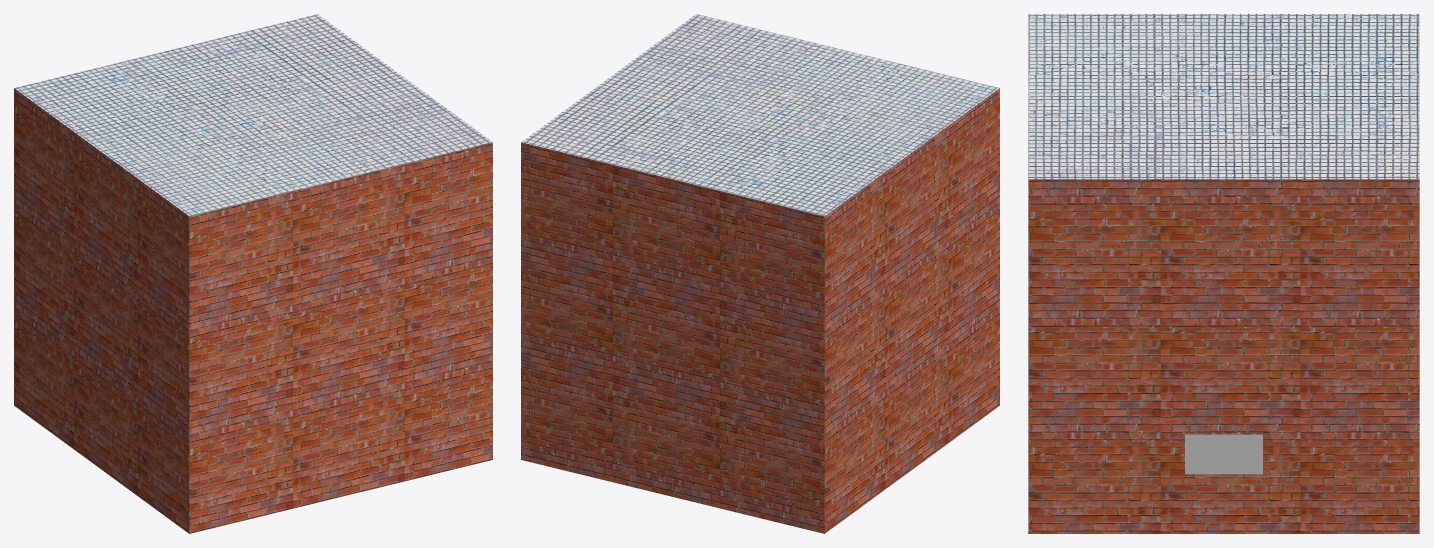
Rendered from region-test.glb.
3 views of the same model, side by side, from view 1: azimuth 30°, elevation 25°; view 2: azimuth 150°, elevation 25°; view 3: azimuth 270°, elevation 25° (orthographic). The views are drawn at different scales.
Parts seen in each view (by area): view 1: Walls; view 2: Walls; view 3: Walls, Stairs.
Part boxes in pixels (x1,y1,x2,y2): Walls: [14, 14, 492, 533]; Walls: [521, 14, 999, 533]; Walls: [1028, 14, 1419, 533]; Stairs: [1185, 434, 1262, 474].
Bounding box in the file's own units: 10 × 10 × 10.
Materials: 3 (1 with a texture image).
